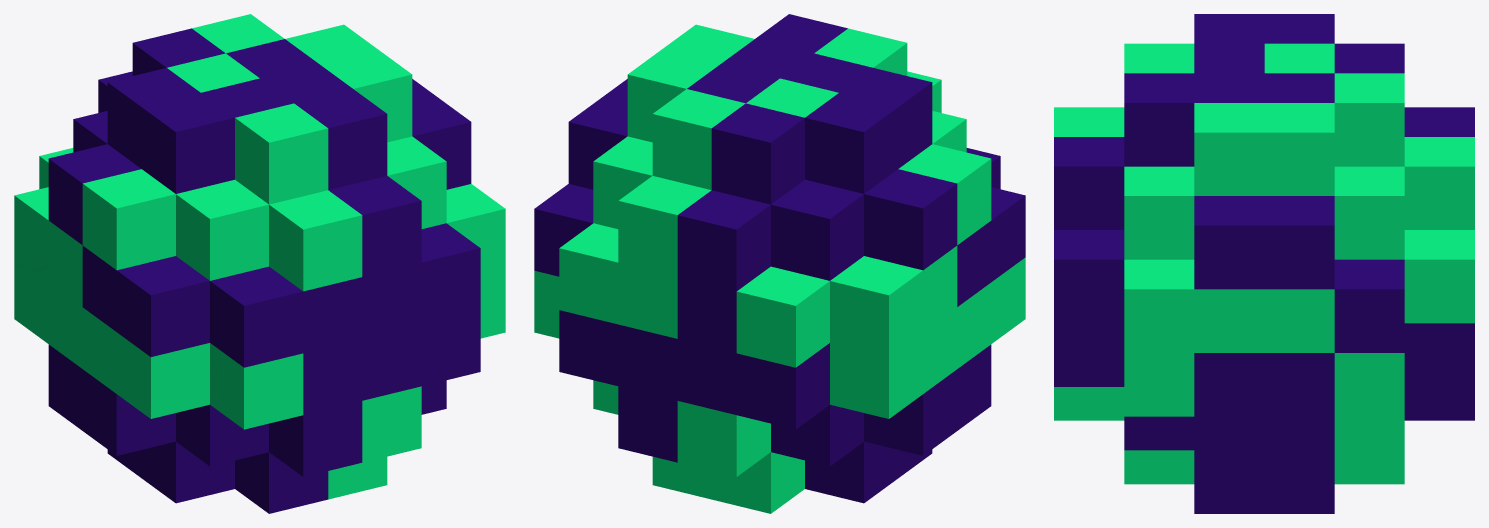
Rendered from planetas-6-azulverde.obj.
The picture shows the model from 3 angles, left to right: view 1: azimuth 30°, elevation 25°; view 2: azimuth 150°, elevation 25°; view 3: azimuth 270°, elevation 25°; orthographic projection. The views are drawn at different scales.
Bounding box in the file's own units: 0.6 × 0.6 × 0.6.
Materials: 1 (1 with a texture image).
